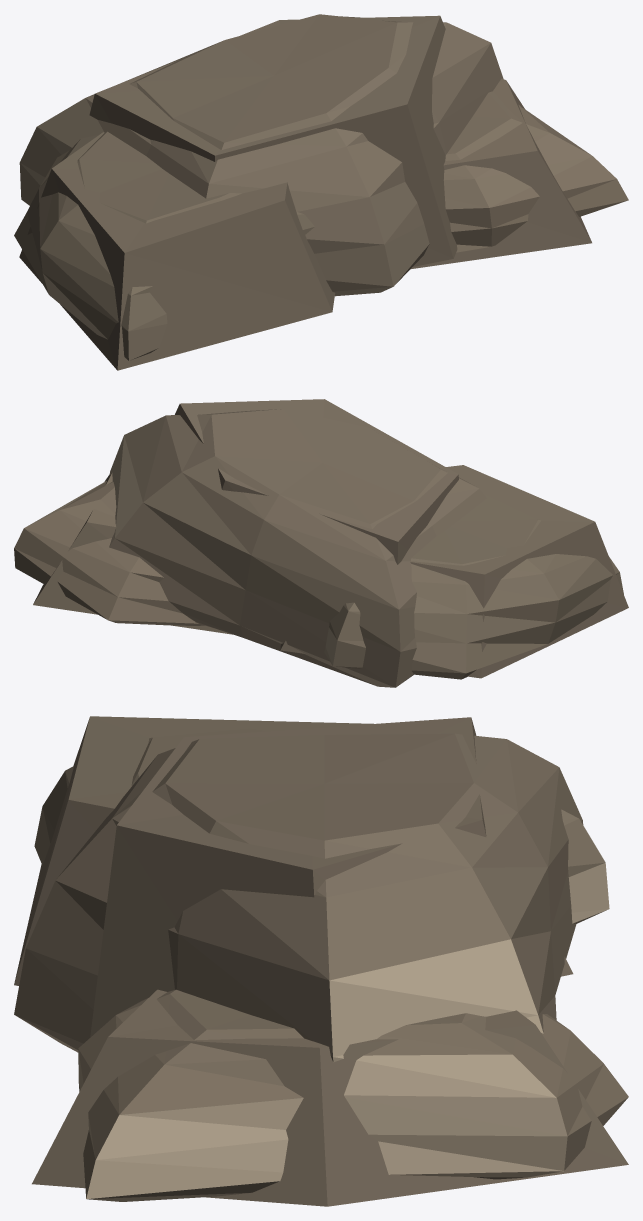
File: rock_harbor_fractured_b.glb
3 views of the same model, one above another, from view 1: azimuth 30°, elevation 25°; view 2: azimuth 150°, elevation 25°; view 3: azimuth 270°, elevation 25° (orthographic). The views are drawn at different scales.
Parts seen in each view (by area): view 1: rock_harbor_fractured_b_LOD0_stone, rock_harbor_fractured_b_LOD1_stone; view 2: rock_harbor_fractured_b_LOD0_stone, rock_harbor_fractured_b_LOD1_stone; view 3: rock_harbor_fractured_b_LOD0_stone, rock_harbor_fractured_b_LOD1_stone.
Part boxes in pixels (x1,y1,x2,y2): rock_harbor_fractured_b_LOD0_stone: (14, 14, 628, 360); rock_harbor_fractured_b_LOD1_stone: (19, 15, 591, 370); rock_harbor_fractured_b_LOD0_stone: (14, 409, 623, 687); rock_harbor_fractured_b_LOD1_stone: (33, 399, 628, 678); rock_harbor_fractured_b_LOD0_stone: (14, 728, 628, 1201); rock_harbor_fractured_b_LOD1_stone: (14, 716, 628, 1206).
Bounding box in the file's own units: 5.98 × 2.07 × 3.95.
